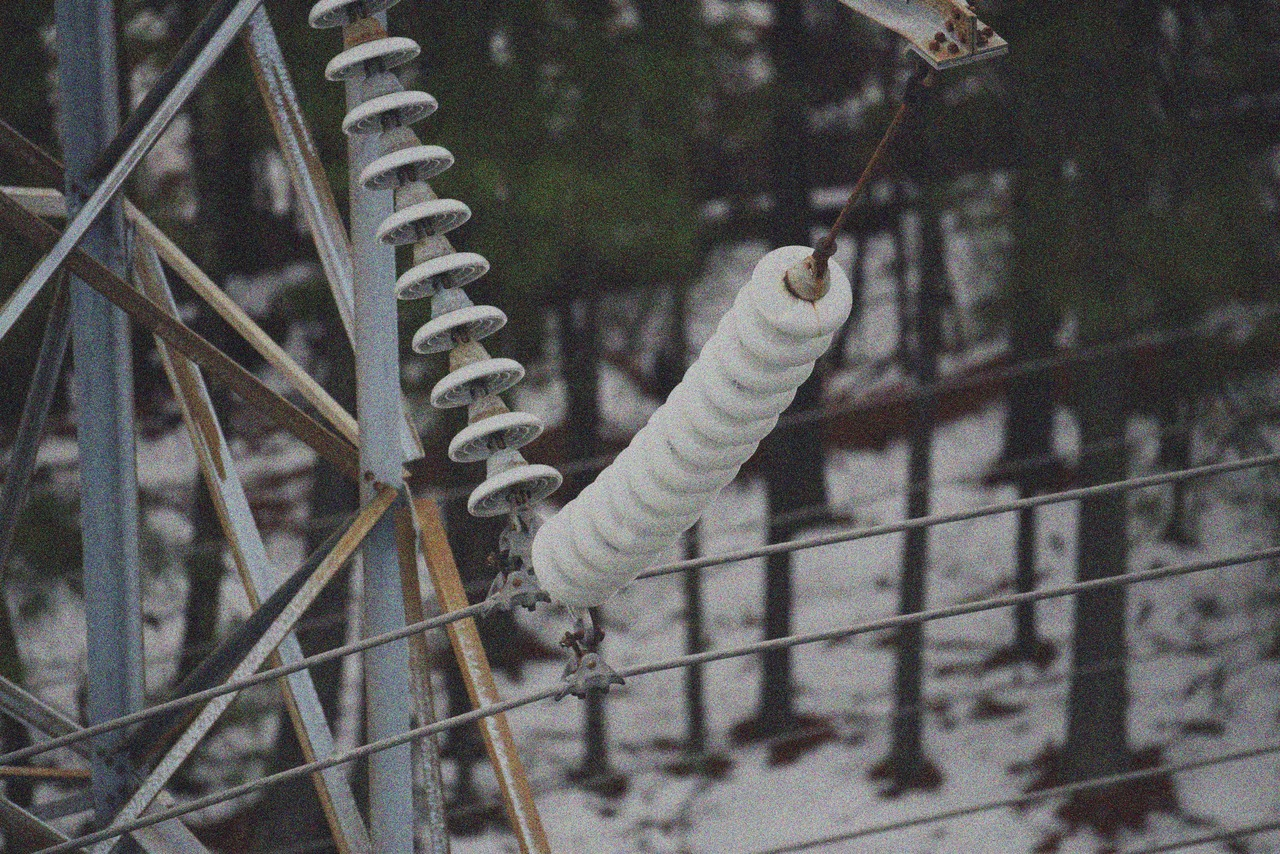Flashover damage: (750, 238, 854, 339), (625, 425, 721, 516), (664, 381, 759, 471), (589, 464, 681, 554)
No issues: (466, 444, 564, 524), (445, 390, 543, 470), (428, 337, 526, 417), (374, 180, 473, 255), (323, 11, 422, 86), (410, 285, 508, 360), (392, 231, 490, 306), (357, 120, 455, 195), (341, 66, 439, 141)
String: (298, 0, 567, 552), (530, 223, 860, 616)
